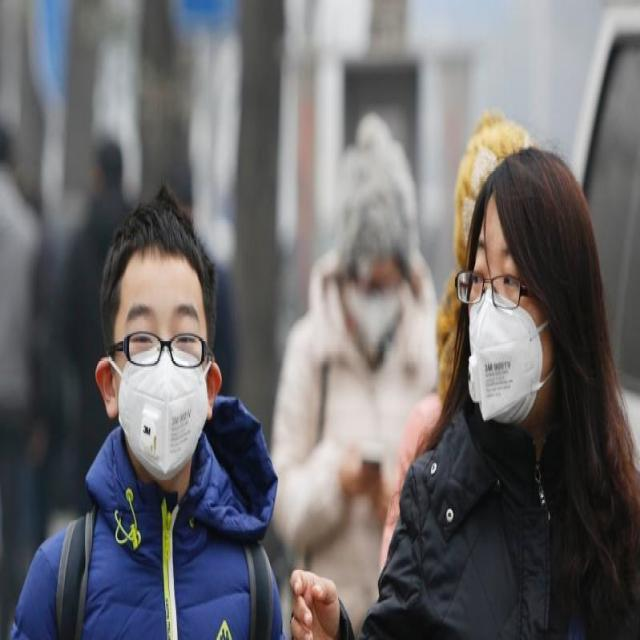mask: (117, 253, 207, 481), (468, 206, 544, 425)
